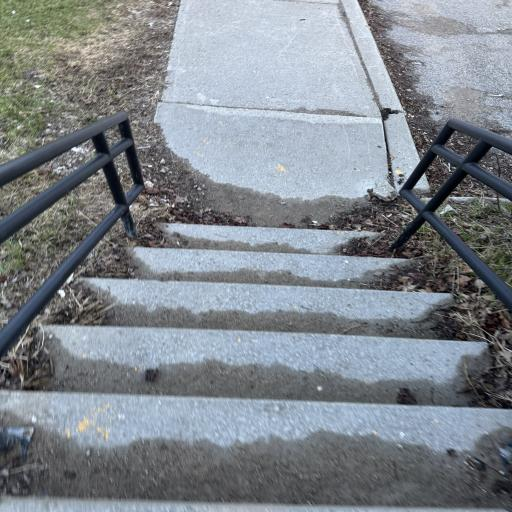Stairs: (0, 224, 512, 512)
